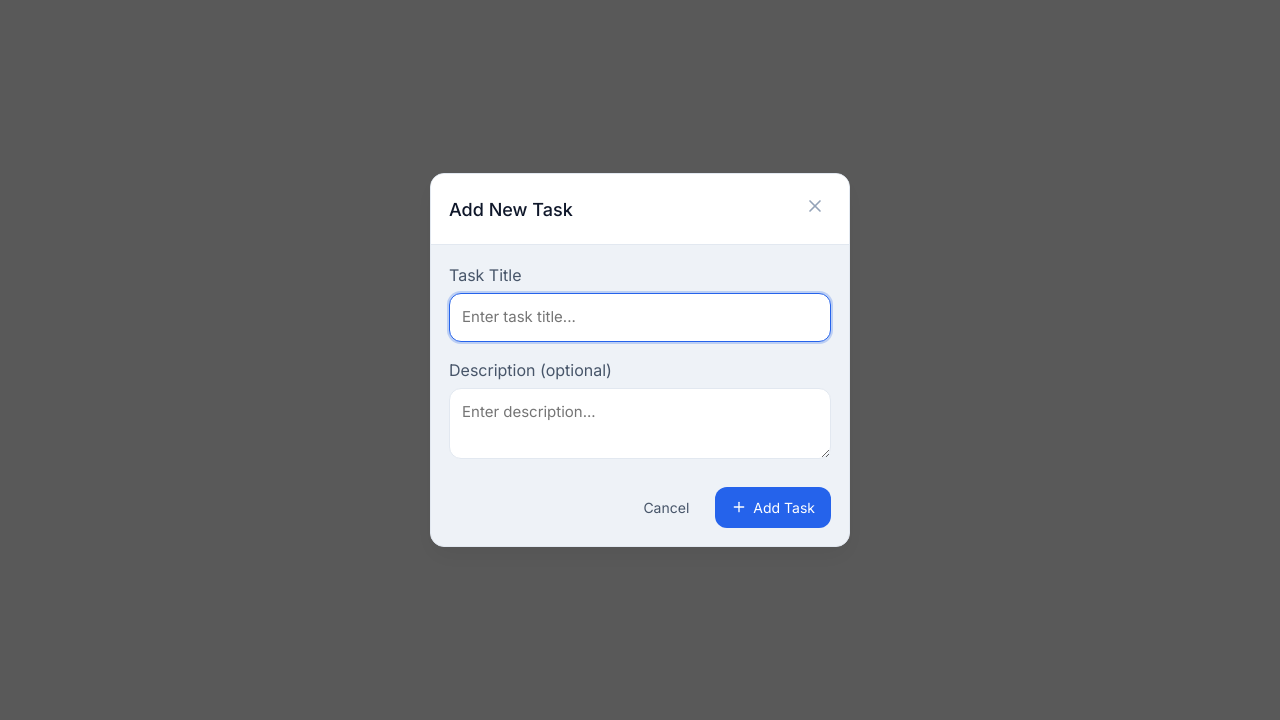
Scenario: AddTaskModal — validation › shows "Title is required" when submitting empty form
Click the button "Add Task".
click(773, 507)  # box [715,487,831,528]
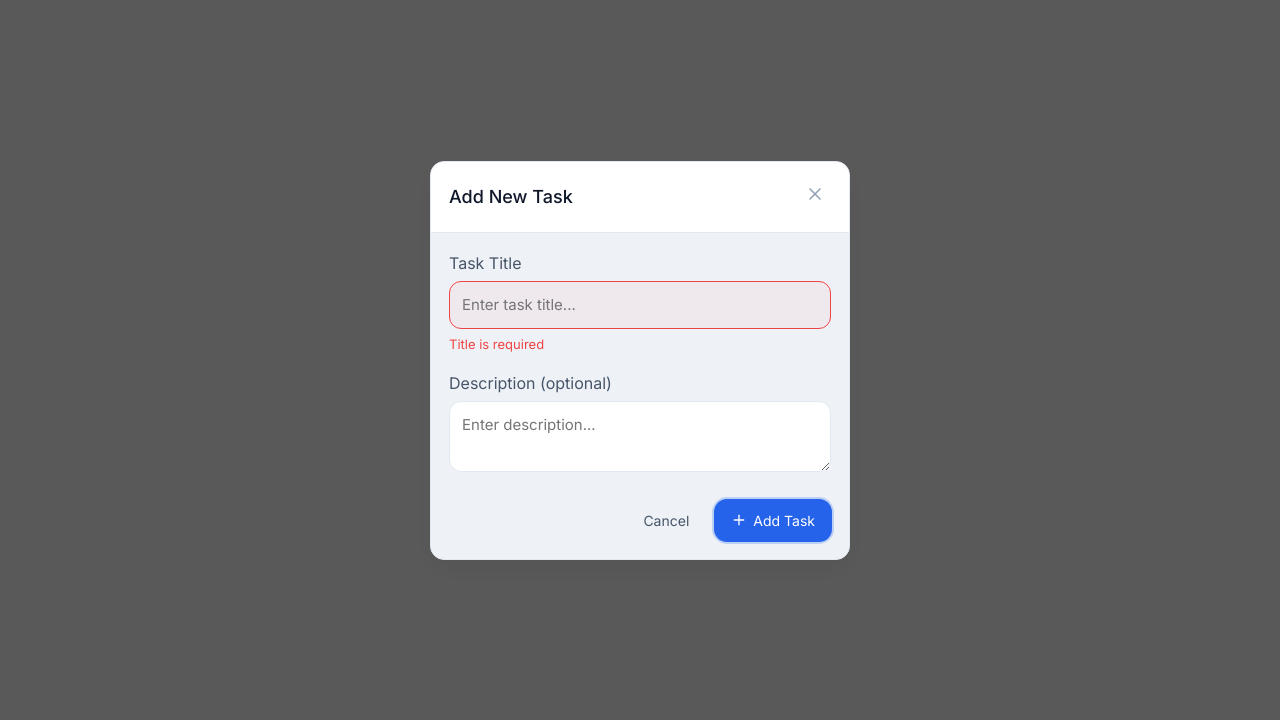
Expected: the text "Title is required" is shown, [449,336,544,352]
